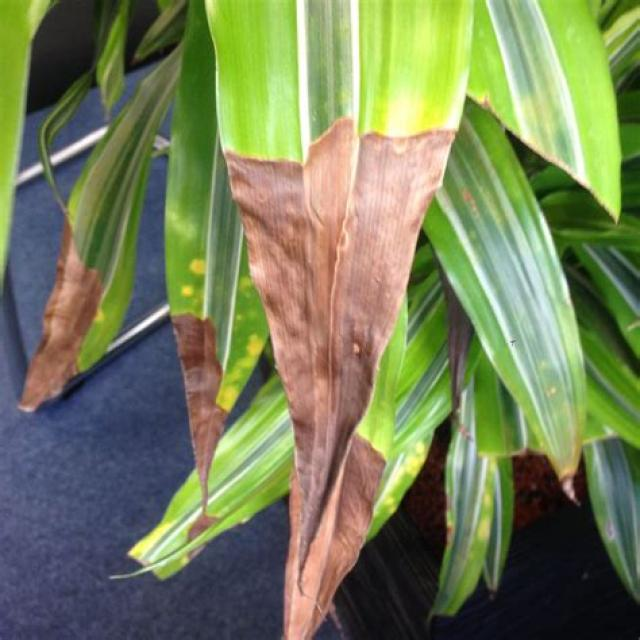blight: (212, 80, 449, 538)
